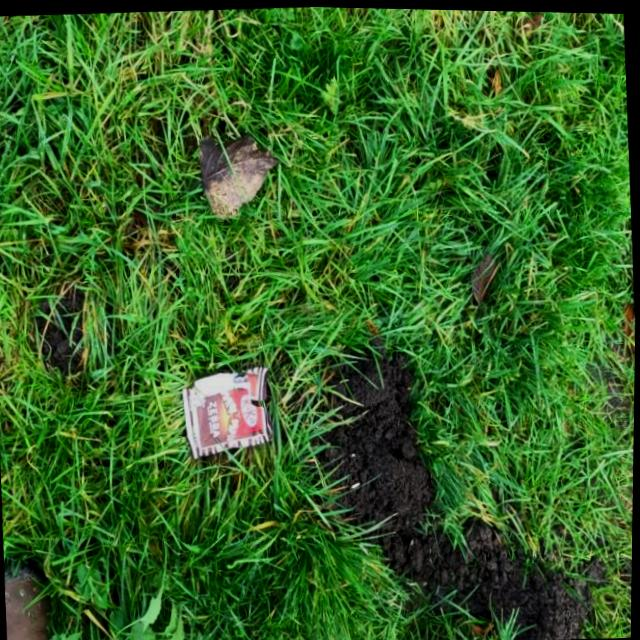Plastic: (180, 356, 284, 465)
